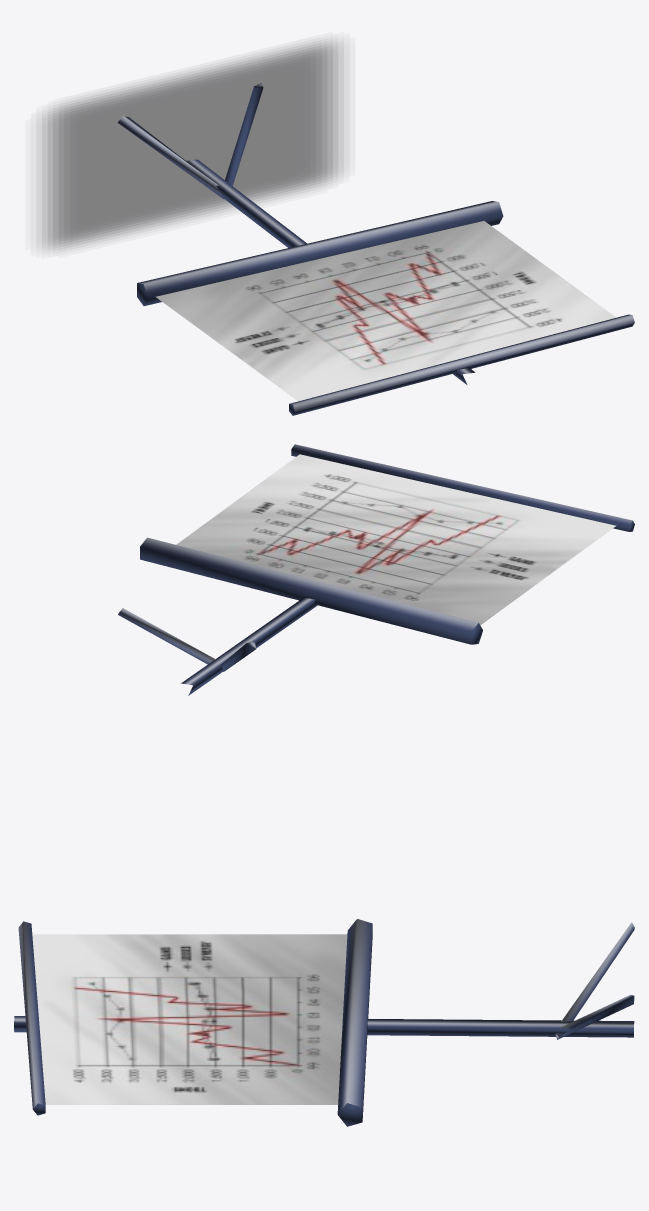
The model's file is slideshow.glb.
3 renders of one model, top to bottom at view 1: azimuth 30°, elevation 25°; view 2: azimuth 150°, elevation 25°; view 3: azimuth 270°, elevation 25°, orthographic. The views are drawn at different scales.
Parts seen in each view (by area): view 1: pPlane1, shadow, pCylinder1, pCylinder2, pCylinder3, group1, group2; view 2: pPlane1, pCylinder1, pCylinder2, pCylinder3, group2; view 3: pPlane1, pCylinder1, pCylinder3, pCylinder2, group1, group2.
Part boxes in pixels (x1,y1,x2,y2): pPlane1: (155, 221, 616, 401); shadow: (42, 40, 343, 250); pCylinder1: (137, 201, 503, 305); pCylinder2: (289, 314, 634, 415); pCylinder3: (186, 159, 475, 384); group1: (118, 116, 223, 199); group2: (225, 83, 263, 185); pPlane1: (176, 454, 616, 625); pCylinder1: (140, 537, 482, 644); pCylinder2: (291, 444, 634, 531); pCylinder3: (181, 597, 317, 695); group2: (118, 608, 222, 670); pPlane1: (32, 934, 347, 1104); pCylinder1: (337, 919, 372, 1126); pCylinder3: (14, 1016, 634, 1037); pCylinder2: (18, 921, 45, 1115); group1: (556, 922, 634, 1037); group2: (555, 994, 634, 1039).
Bounding box in the file's own units: 3.71 × 1.69 × 5.11.
3 materials, 3 textured.
